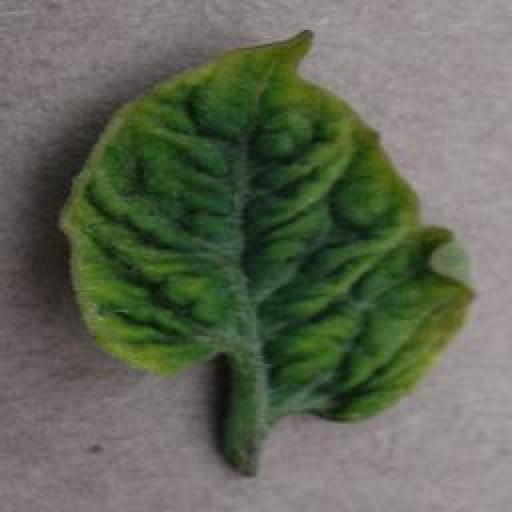Yellow Leaf Curl Virus: (59, 30, 480, 426)
